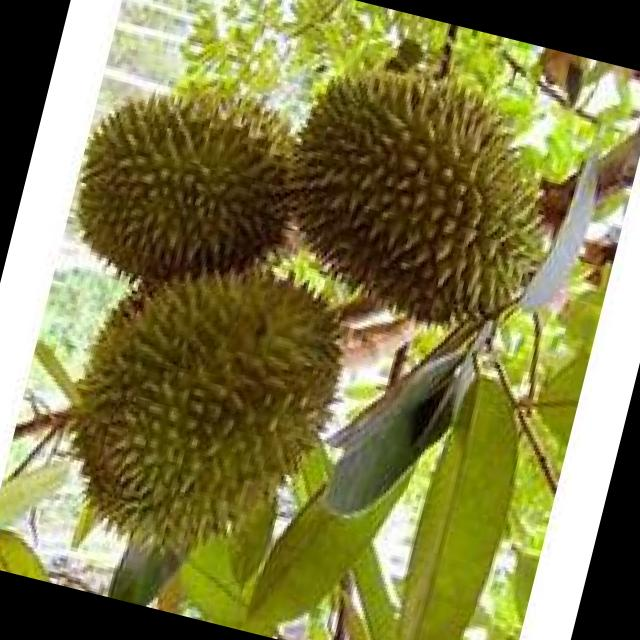fruit: (1, 193, 412, 638), (227, 19, 603, 377), (33, 43, 340, 327)
